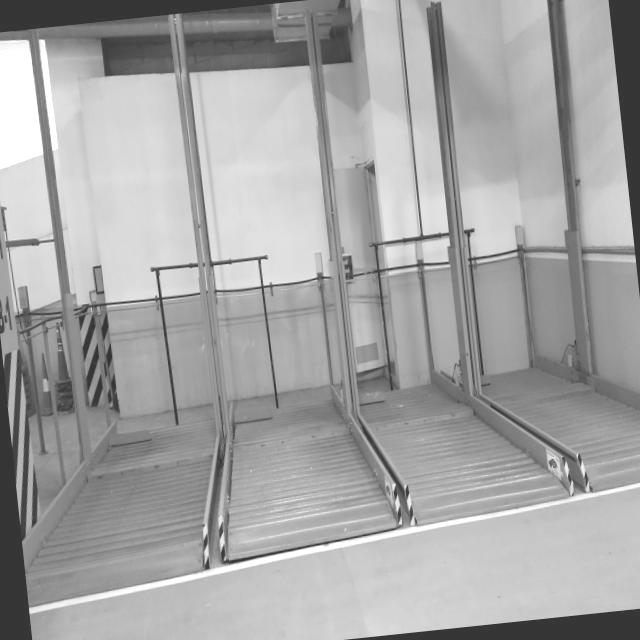free: (226, 399, 369, 543), (89, 410, 198, 572), (367, 386, 490, 522), (501, 356, 632, 478)
